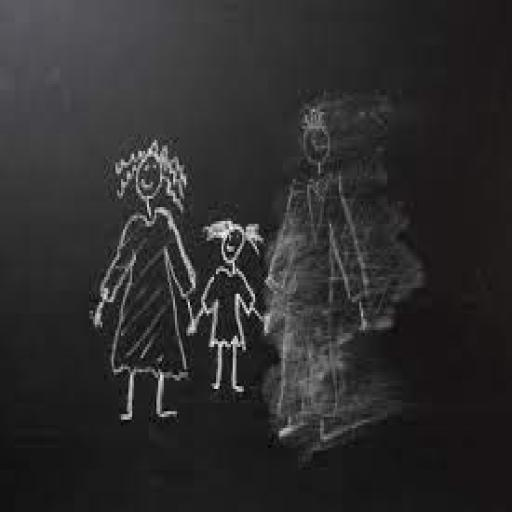person: (276, 102, 374, 447), (97, 138, 197, 429), (192, 214, 272, 399)
